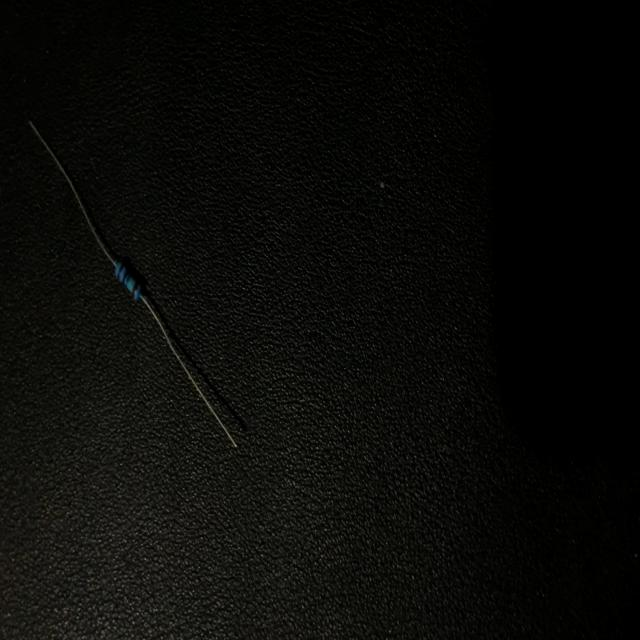resistor: (28, 115, 241, 452)
